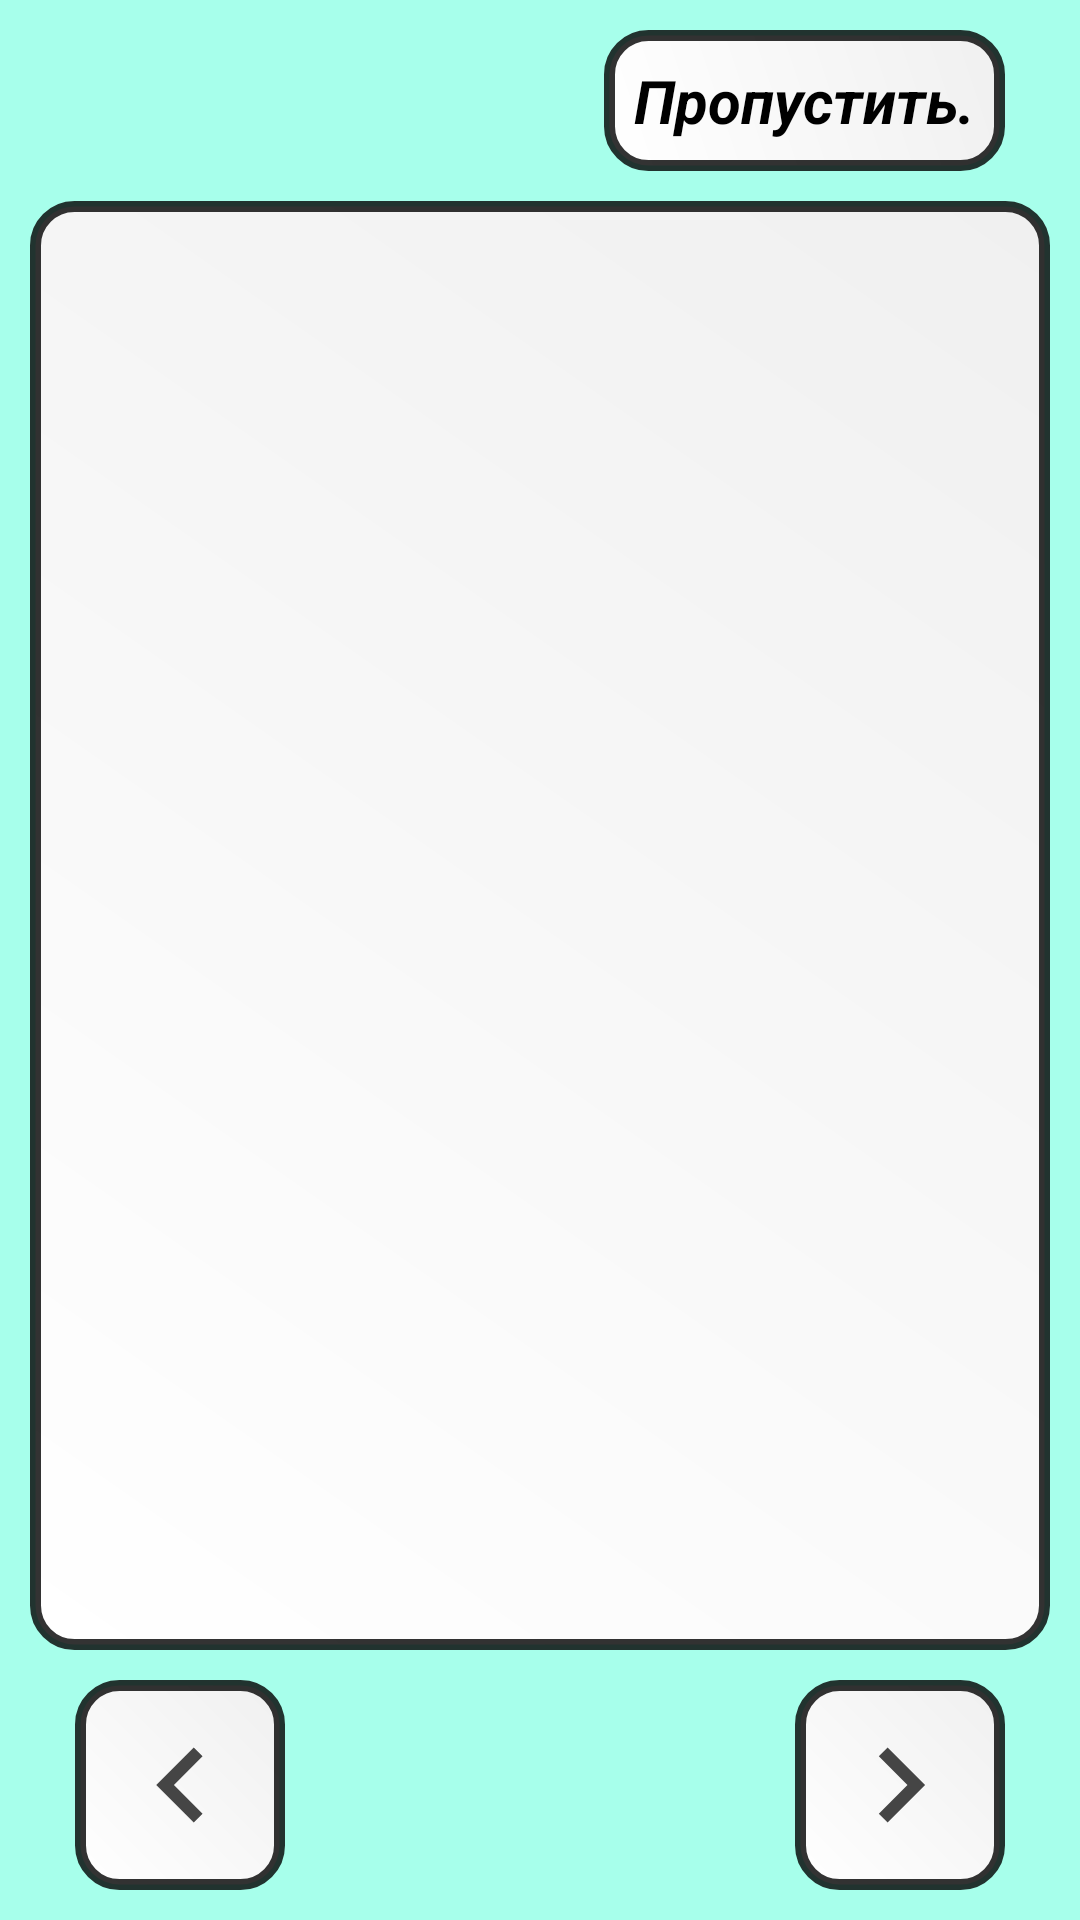

Point at icon controls on the screen. Image size 1080x1920, points as point (x, y).
navigate before: point (180, 1785)
navigate next: point (900, 1785)
